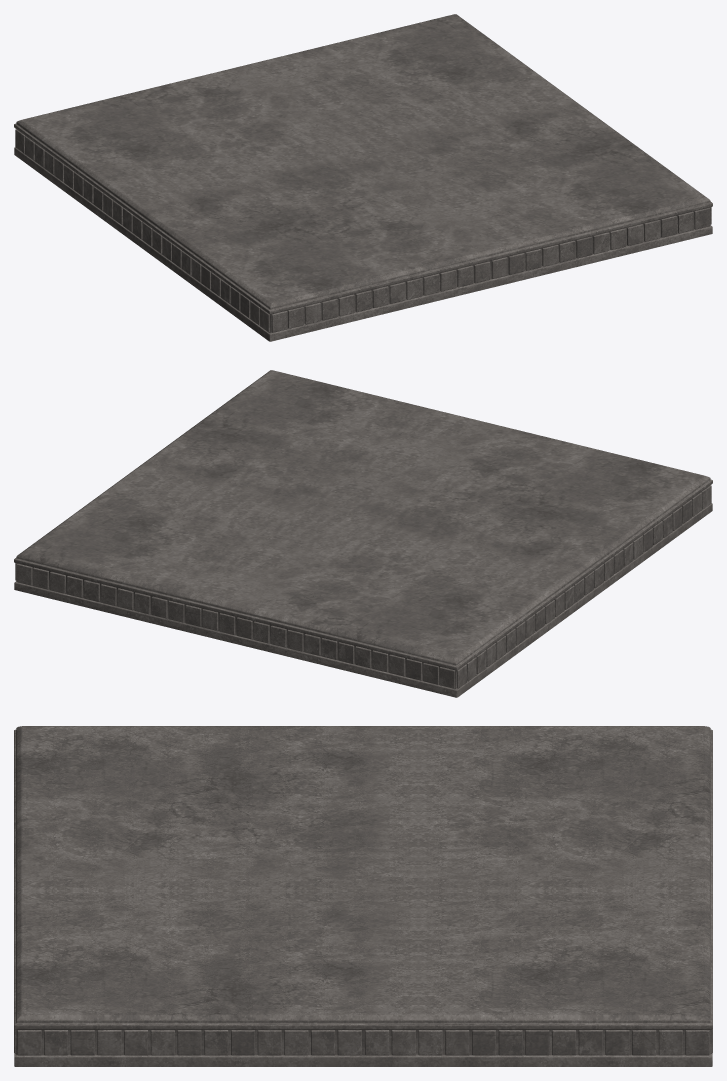
The model's file is SK7 BASE SMALL.fbx.
The picture shows the model from 3 angles, top to bottom: view 1: azimuth 30°, elevation 25°; view 2: azimuth 150°, elevation 25°; view 3: azimuth 270°, elevation 25°; orthographic projection. The views are drawn at different scales.
Visible parts, largest first — view 1: SK7 BASE SMALL; view 2: SK7 BASE SMALL; view 3: SK7 BASE SMALL.
Part boxes in pixels (x1,y1,x2,y2): SK7 BASE SMALL: (14,14,712,341); SK7 BASE SMALL: (14,370,712,697); SK7 BASE SMALL: (14,726,712,1066).
Size of the model in its own units: 1306 by 100 by 1306.
